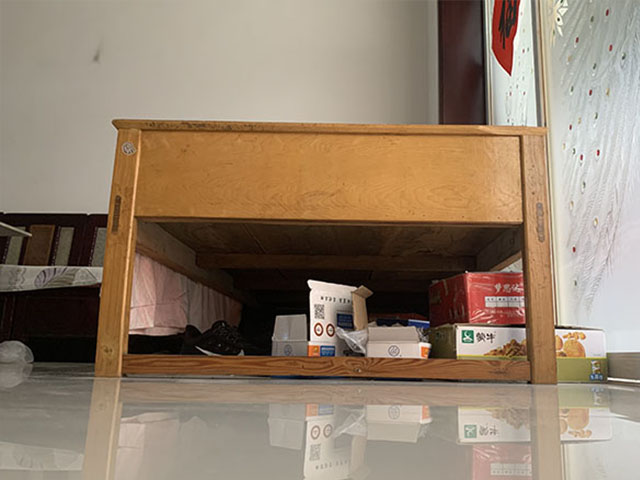bed: (91, 117, 559, 387)
sofa: (1, 212, 104, 368)
